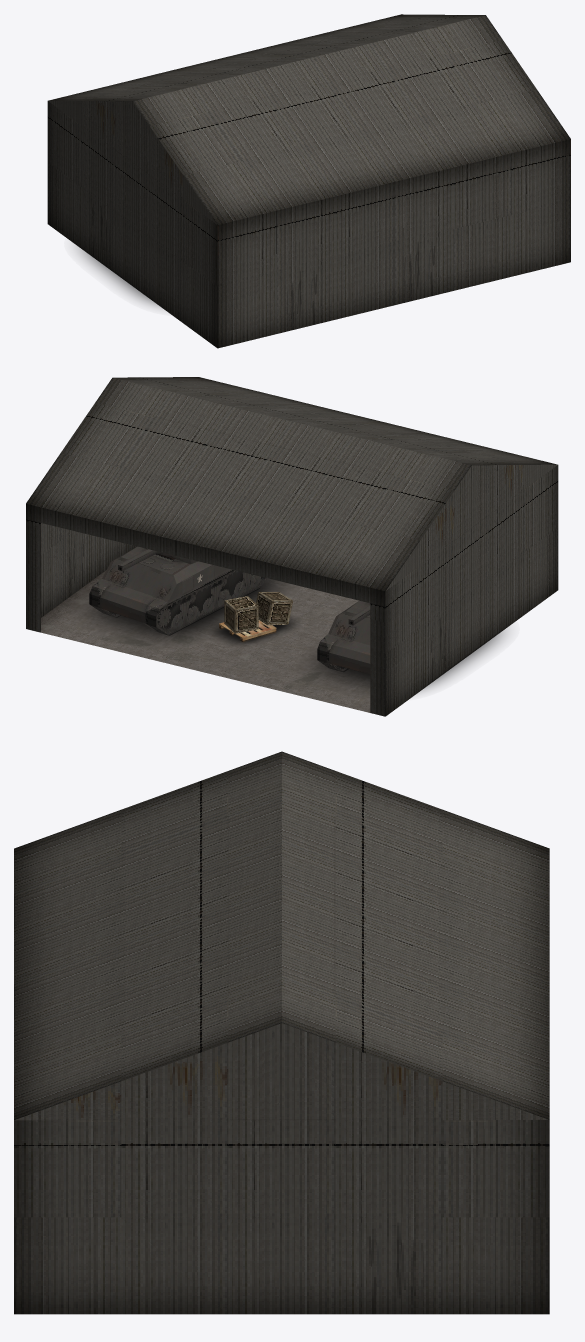
The model's file is tank.gltf.
3 views of the same model, one above another, from view 1: azimuth 30°, elevation 25°; view 2: azimuth 150°, elevation 25°; view 3: azimuth 270°, elevation 25° (orthographic). The views are drawn at different scales.
Parts seen in each view (by area): view 1: Hangar, Plane.001; view 2: Hangar, Tank, Tank.001, Plane, Plane.001, Crate.004, Crate.003, Plane.002, Palette; view 3: Hangar.
Boxes of the visible parts, x1,y1,x2,y2 form: Hangar: (47, 14, 570, 348); Plane.001: (77, 245, 163, 308); Hangar: (26, 377, 558, 716); Tank: (89, 532, 275, 635); Tank.001: (317, 600, 370, 674); Plane: (83, 578, 288, 642); Plane.001: (309, 628, 506, 692); Crate.004: (224, 596, 258, 633); Crate.003: (256, 592, 293, 625); Plane.002: (211, 617, 296, 645); Palette: (219, 620, 276, 641); Hangar: (14, 751, 549, 1314).
Size of the model in its own units: 14.1 by 6 by 10.4.
4 materials, 4 textured.
